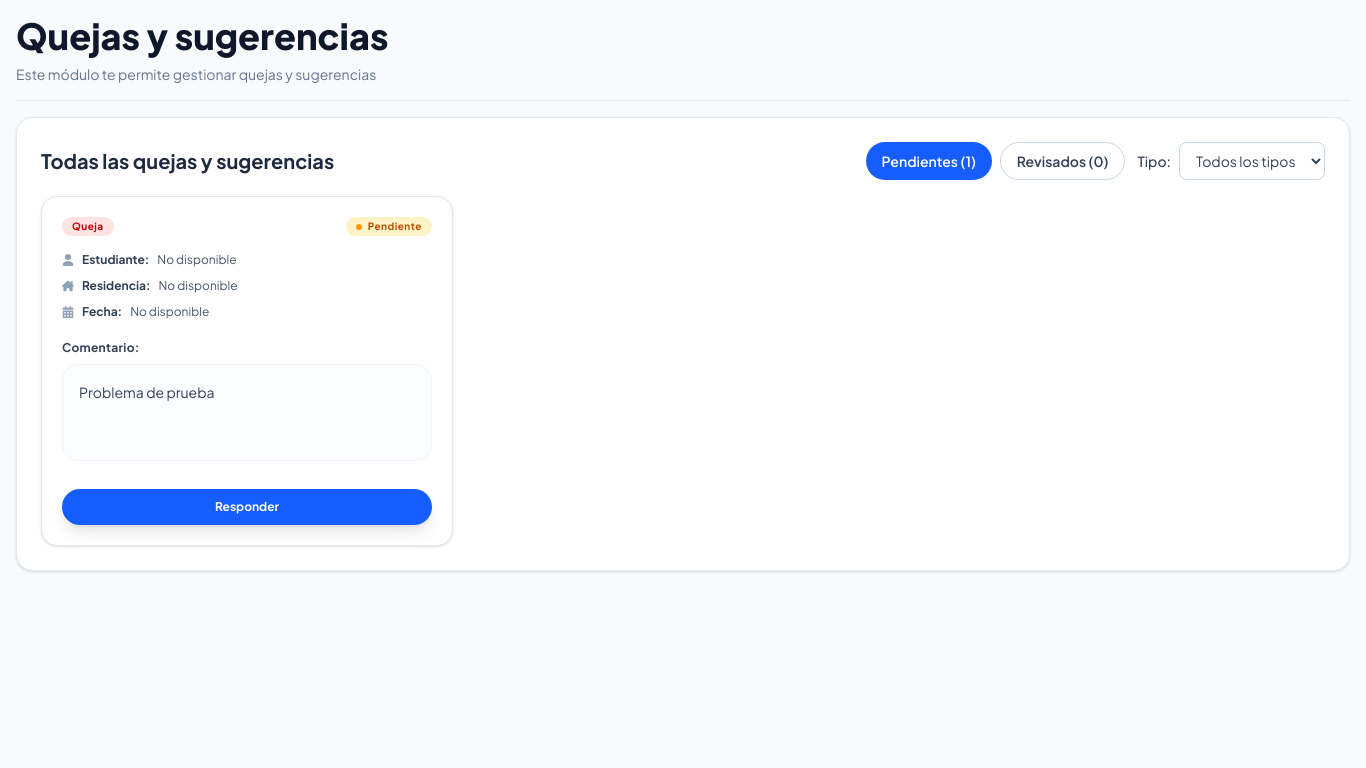
Scenario: Feedback › abre el modal al presionar responder
The image size is (1366, 768).
Click the button "Responder": (247, 507) [62,489,432,525]
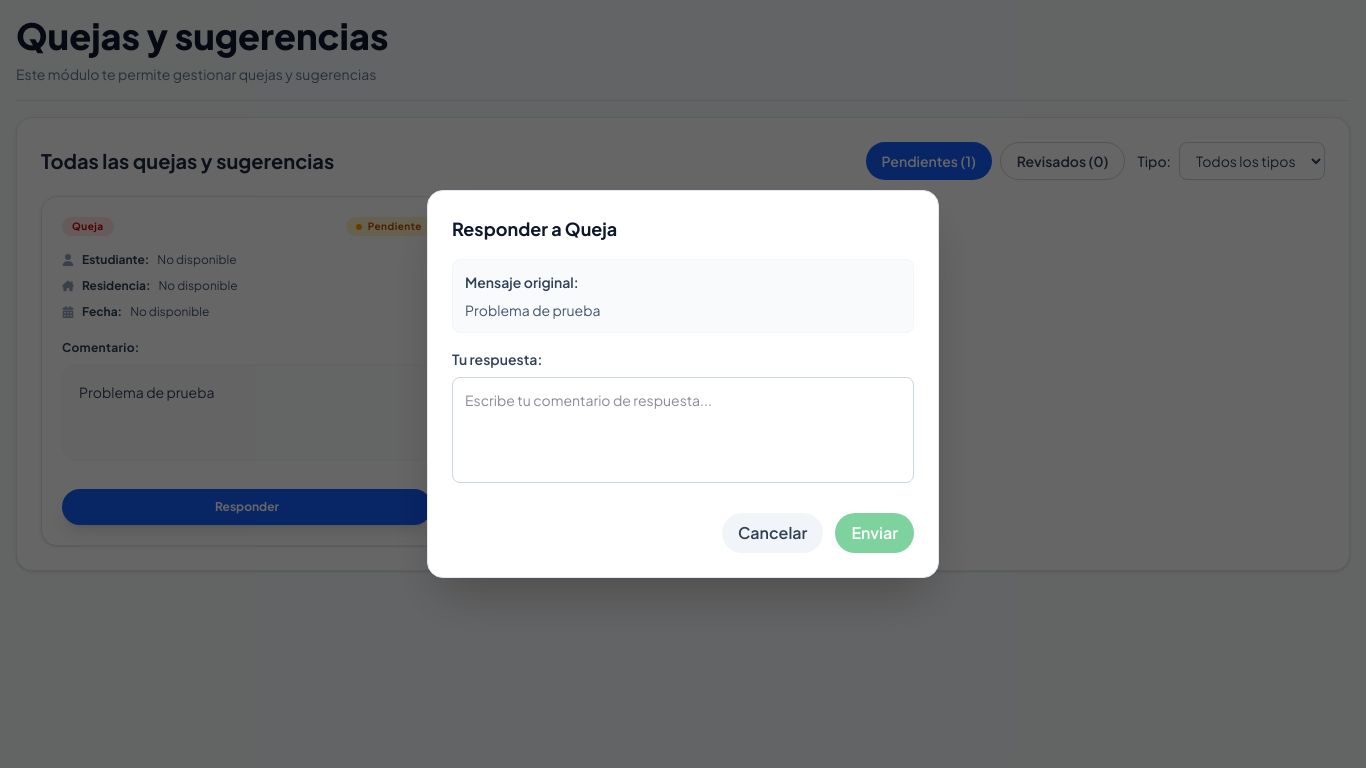
Expected: the text "Tu respuesta:" is shown, [452,350,542,368]
Expected: the button "Enviar" is shown, [835,513,914,553]
